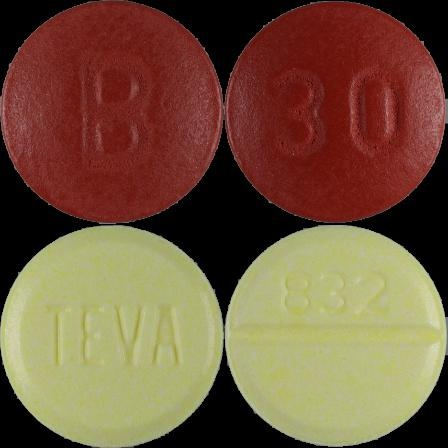0093-0819: (0, 0, 224, 224)
